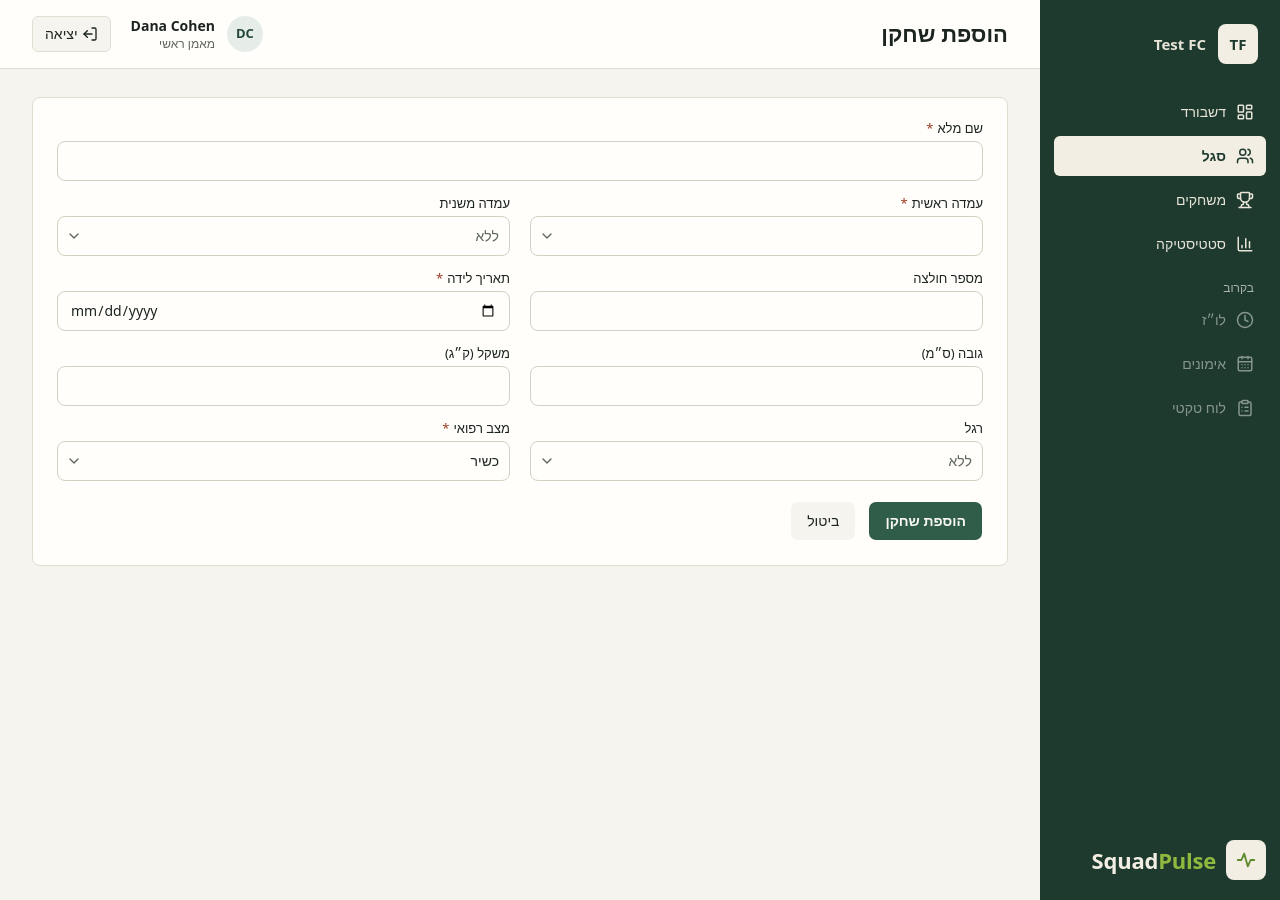
Test case: the add-player form › shows the secondary position's error as soon as it equals the primary
Expected: the heading "הוספת שחקן" is shown, [881,20,1008,48]
Expected: the button "הוספת שחקן" is shown, [868,501,983,541]
Click the dropdown named "עמדה משנית" at coordinates (487, 236), box [57,216,510,256]
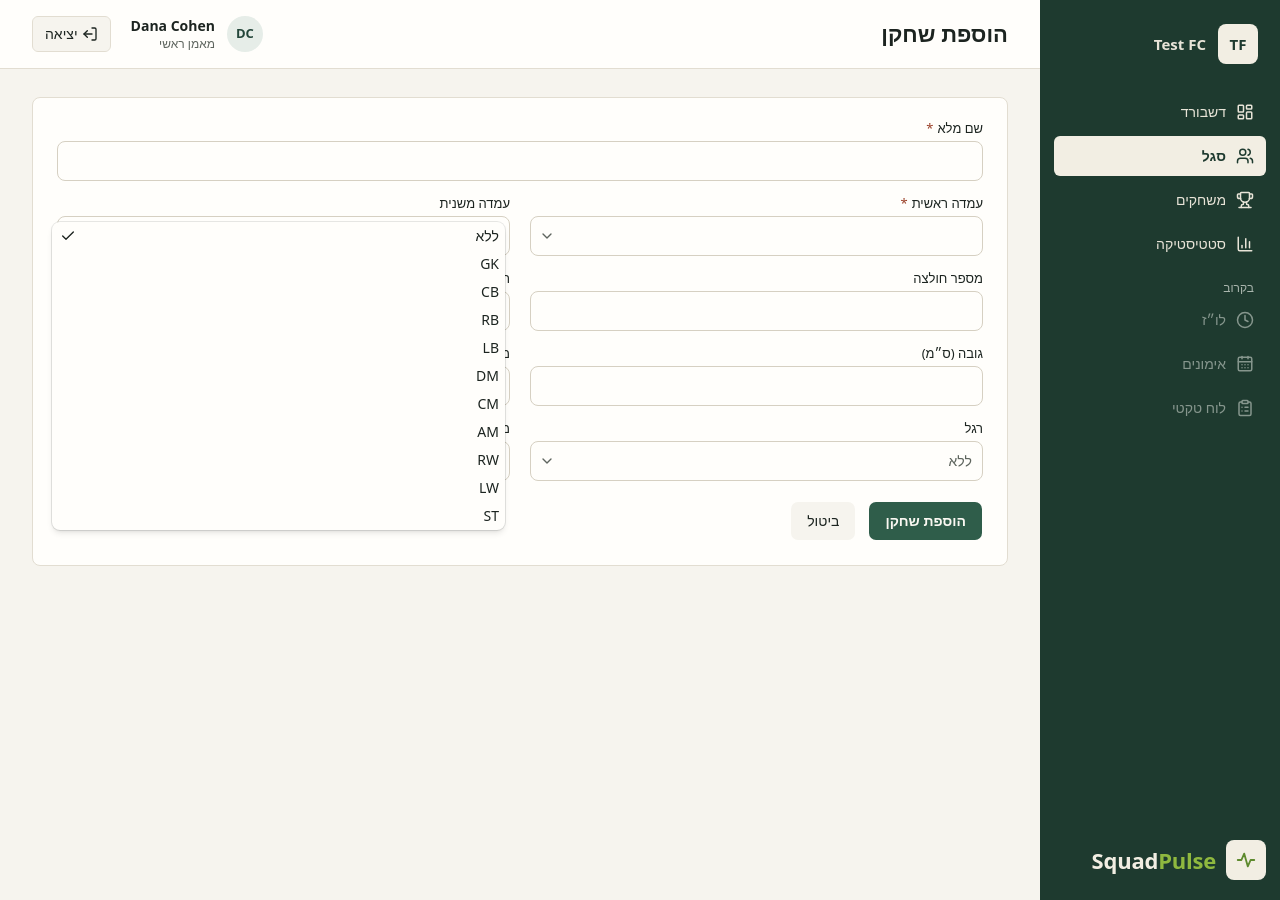
Click the option "ST" at coordinates (491, 516), box [484,506,499,525]
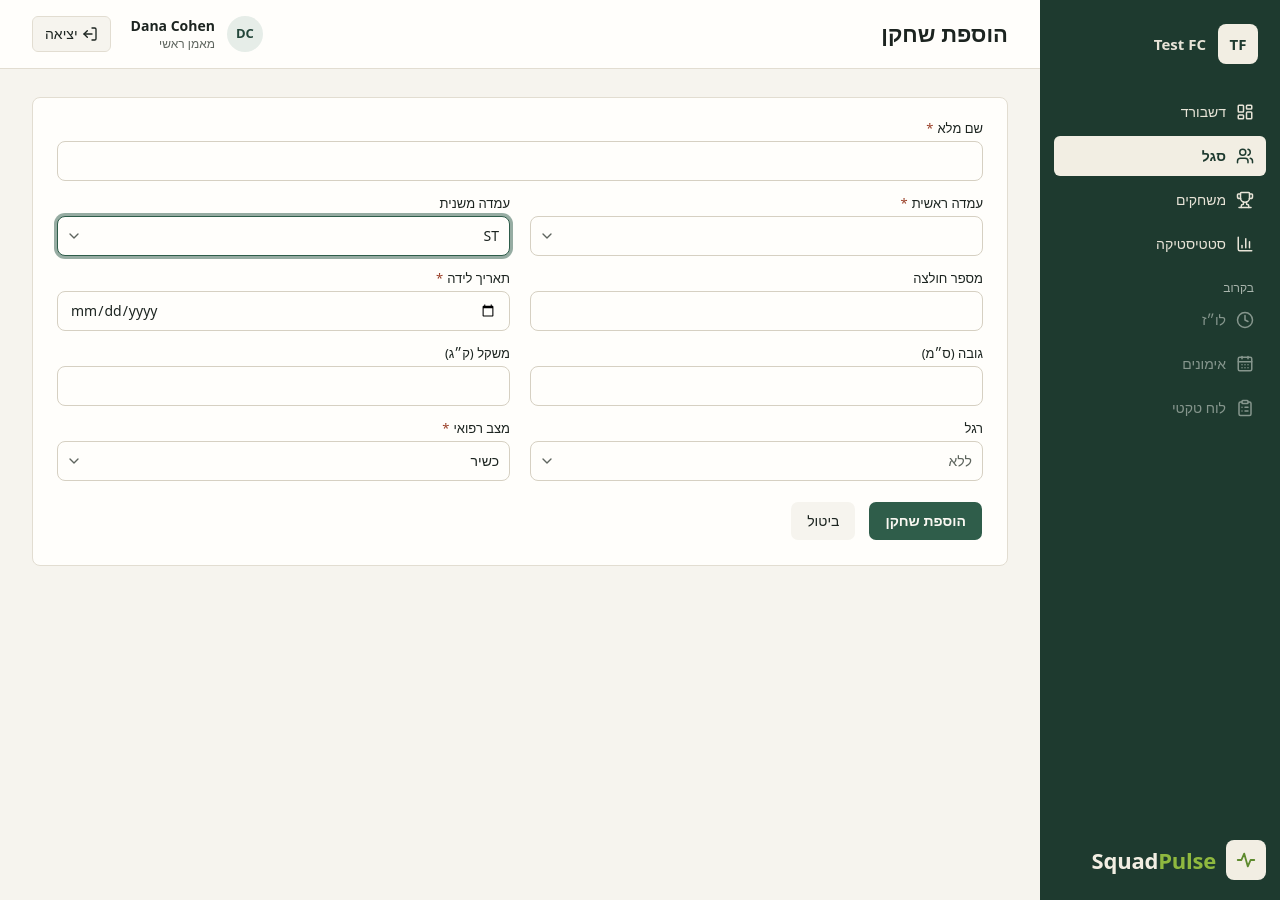
Expected: the list "ללא GK CB RB LB DM CM AM RW LW ST" is gone
Click the dropdown named "עמדה ראשית" at coordinates (547, 236), box [530,216,983,256]
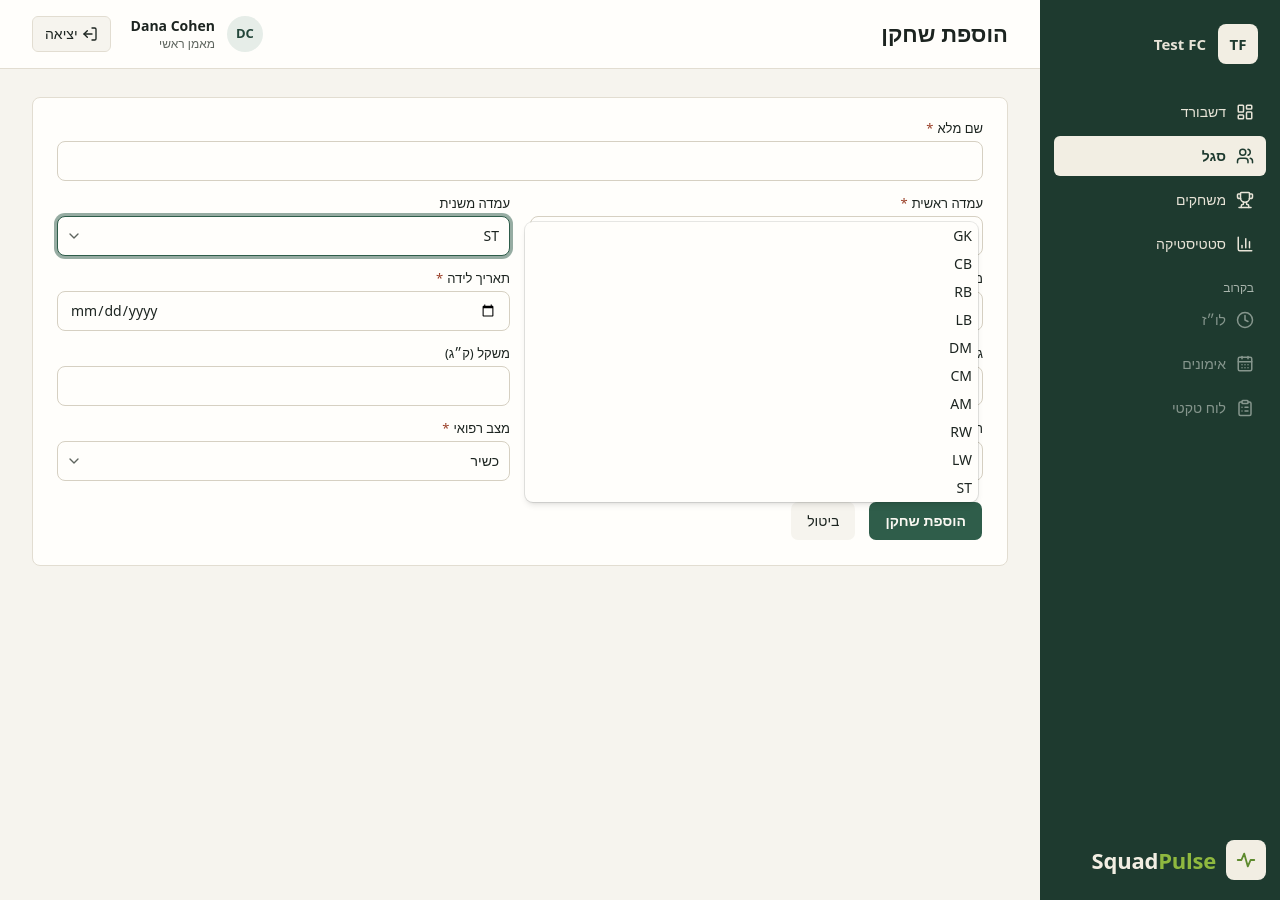
Click the option "ST" at coordinates (964, 488), box [956,478,972,497]
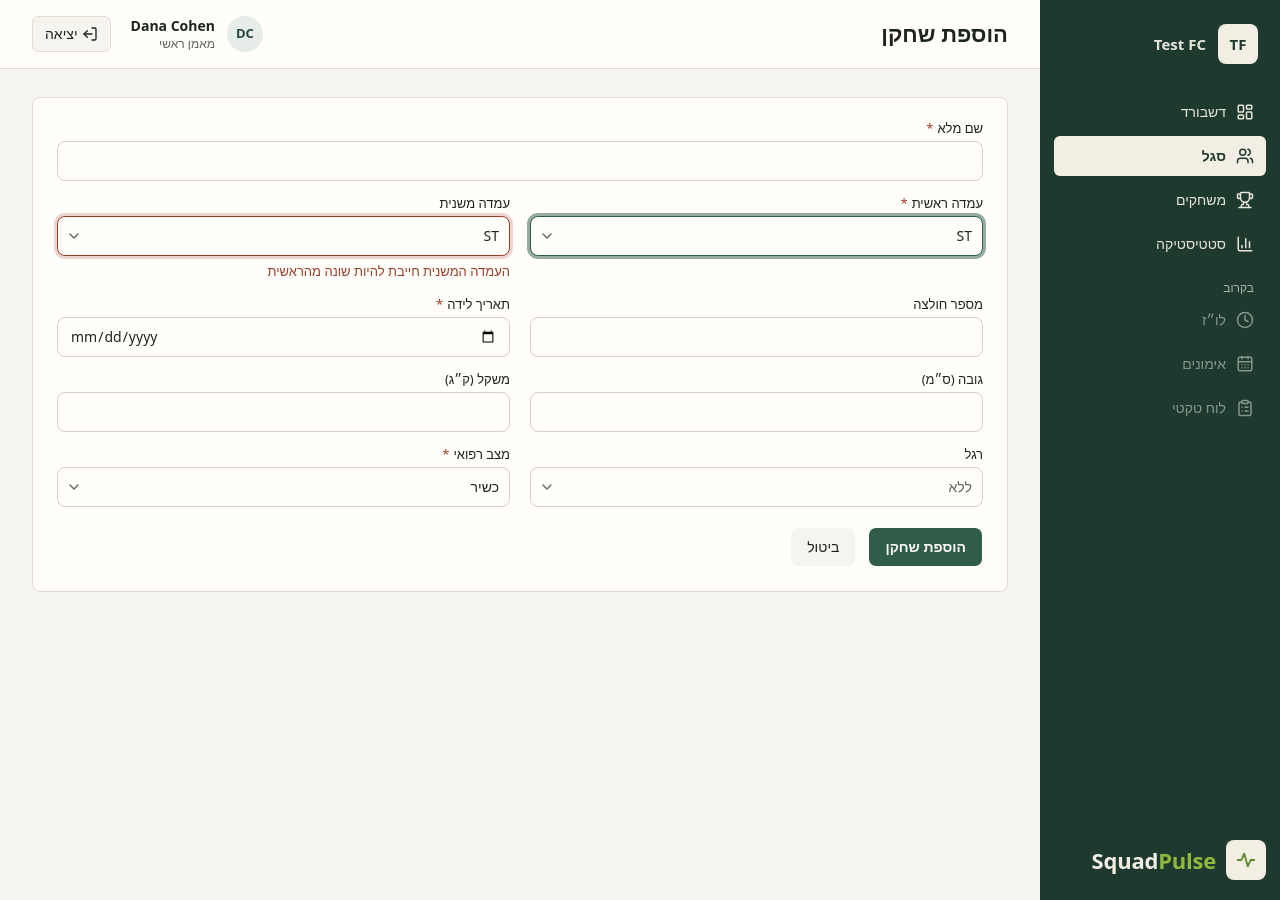
Expected: the dropdown named "עמדה משנית" shows "ST", [57,216,510,256]
Expected: the list "GK CB RB LB DM CM AM RW LW ST" is gone
Expected: the text "העמדה המשנית חייבת להיות שונה מהראשית" is shown, [267,262,510,280]
